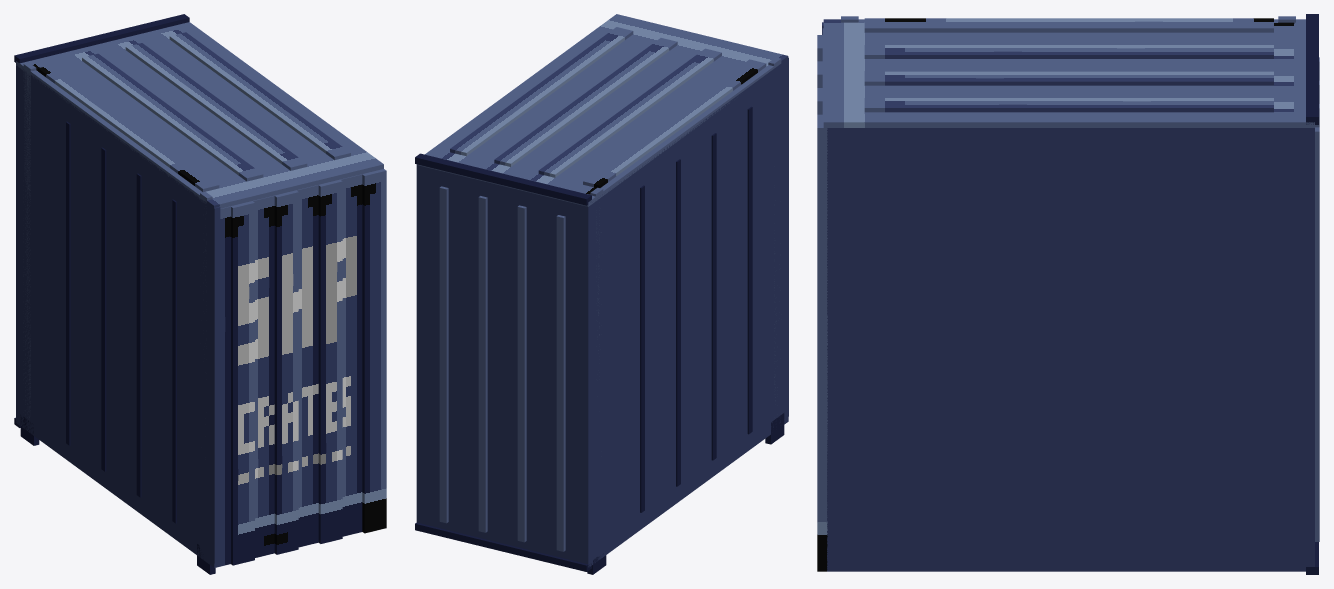
The model's file is CMU3DSectionAU14ContainerLightHyperdyneLeft.glb.
The picture shows the model from 3 angles, left to right: view 1: azimuth 30°, elevation 25°; view 2: azimuth 150°, elevation 25°; view 3: azimuth 270°, elevation 25°; orthographic projection. The views are drawn at different scales.
Visible parts, largest first — view 1: closed cargo shell, source-painted roof, outer end wall, painted corrugation 8, painted corrugation 6, painted corrugation 4, painted corrugation 2, painted corrugation 7, painted corrugation 5, painted corrugation 3, outer end rib (×4), painted corrugation 1 (+6 smaller); view 2: closed cargo shell, outer end wall, source-painted roof, rear corrugation (×4), outer end rib (×4), rear horizontal frame (×2), source-painted roof ridge 2, source-painted roof ridge 3, source-painted roof ridge 1, source-painted roof ridge 4; view 3: closed cargo shell, source-painted roof, source-painted roof ridge 1, source-painted roof ridge 3, source-painted roof ridge 4, source-painted roof ridge 2, painted corrugation 8, rear corrugation, rear horizontal frame.
Part boxes in pixels (box(x1,y1,x2,y2)): closed cargo shell: box(16, 66, 212, 565); source-painted roof: box(16, 22, 383, 209); outer end wall: box(16, 64, 220, 563); painted corrugation 8: box(362, 169, 386, 533); painted corrugation 6: box(318, 179, 342, 543); painted corrugation 4: box(274, 190, 298, 554); painted corrugation 2: box(231, 201, 254, 565); painted corrugation 7: box(340, 174, 362, 536); painted corrugation 5: box(296, 185, 318, 547); painted corrugation 3: box(253, 195, 274, 557); outer end rib (×4): box(66, 121, 176, 523); painted corrugation 1: box(212, 206, 230, 567); closed cargo shell: box(416, 78, 786, 567); outer end wall: box(582, 57, 788, 563); source-painted roof: box(416, 14, 788, 206); rear corrugation (×4): box(439, 186, 565, 551); outer end rib (×4): box(640, 106, 752, 512); rear horizontal frame (×2): box(415, 153, 591, 571); source-painted roof ridge 2: box(538, 48, 721, 177); source-painted roof ridge 3: box(494, 38, 677, 166); source-painted roof ridge 1: box(583, 59, 766, 187); source-painted roof ridge 4: box(450, 27, 633, 156); closed cargo shell: box(827, 128, 1314, 571); source-painted roof: box(823, 19, 1314, 127); source-painted roof ridge 1: box(864, 18, 1273, 32); source-painted roof ridge 3: box(864, 71, 1273, 85); source-painted roof ridge 4: box(864, 98, 1273, 112); source-painted roof ridge 2: box(864, 45, 1273, 58); painted corrugation 8: box(817, 114, 827, 571); rear corrugation: box(1315, 127, 1319, 541); rear horizontal frame: box(1306, 14, 1318, 124).
Bounding box in the file's own units: 0.9768 × 2.05 × 2.
Materials: 14 (11 with a texture image).
